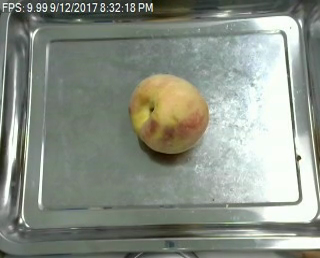Peach: (128, 72, 209, 153)
